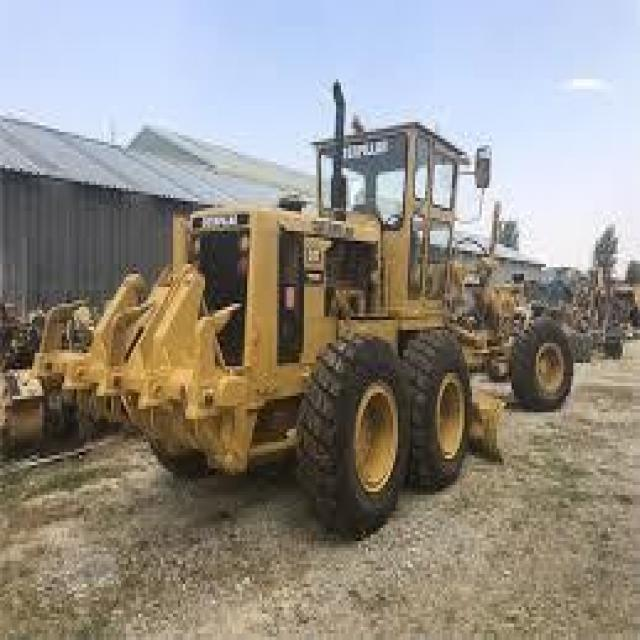Grader: (30, 83, 612, 508)
